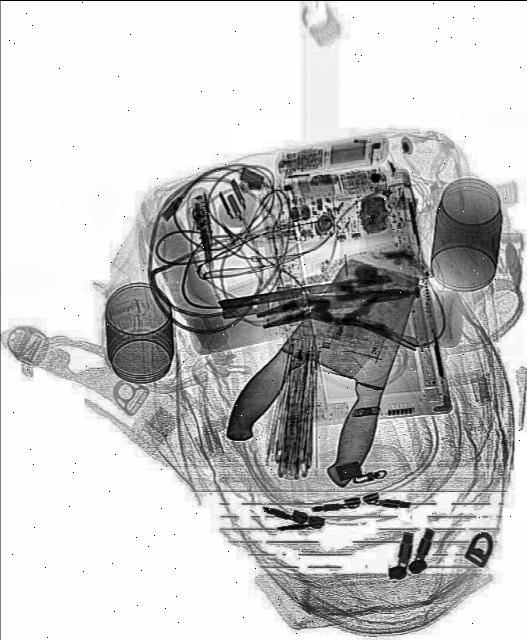Knife: (216, 234, 424, 482), (291, 253, 423, 492)
